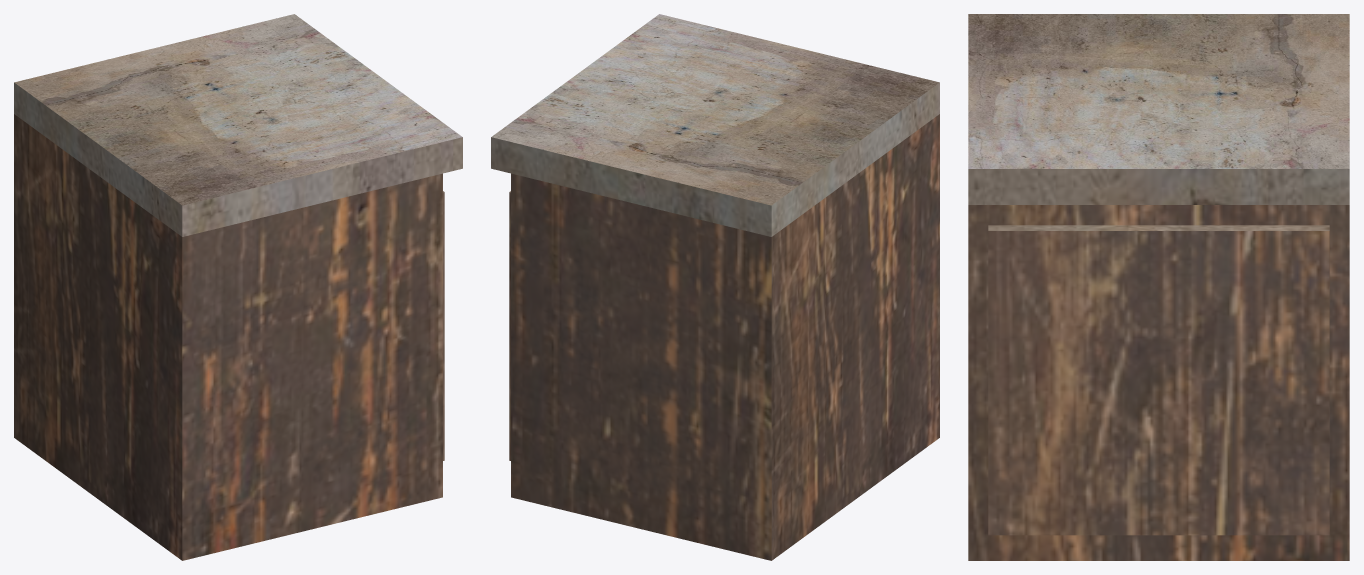
Rendered from mesa3.fbx.
3 renders of one model, left to right at view 1: azimuth 30°, elevation 25°; view 2: azimuth 150°, elevation 25°; view 3: azimuth 270°, elevation 25°, orthographic. The views are drawn at different scales.
Visible parts, largest first — view 1: Encimera_01; view 2: Encimera_01; view 3: Encimera_01.
Boxes of the visible parts, <box> form: Encimera_01: <box>14,14,462,560</box>; Encimera_01: <box>491,14,939,560</box>; Encimera_01: <box>968,14,1349,560</box>.
Bounding box in the file's own units: 142 × 172 × 148.
